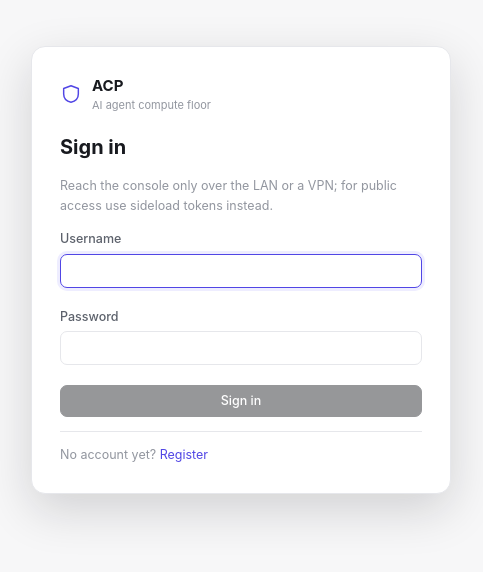
Test case: LoginPage › shows the server error when sign-in fails
Type "alice" into the field labelled "Username". click: (241, 271)
box: [60,254,422,288]
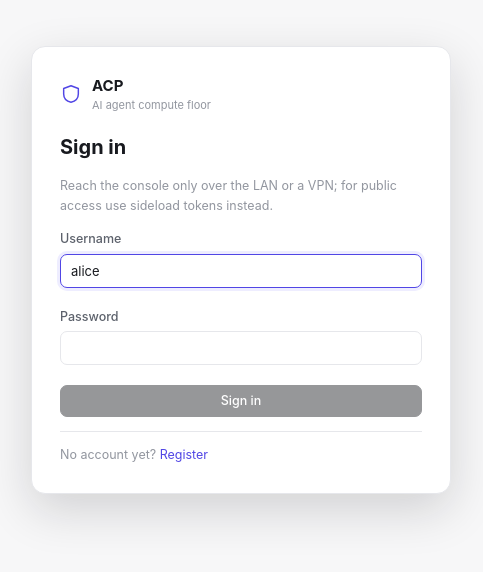
Type "wrong" into the password field labelled "Password". click: (241, 348)
box: [60,331,422,365]
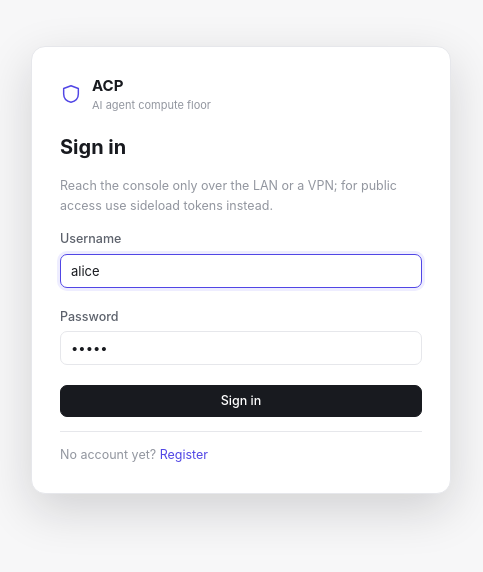
Click the button "Sign in". click: (241, 401)
box: [60,385,422,417]
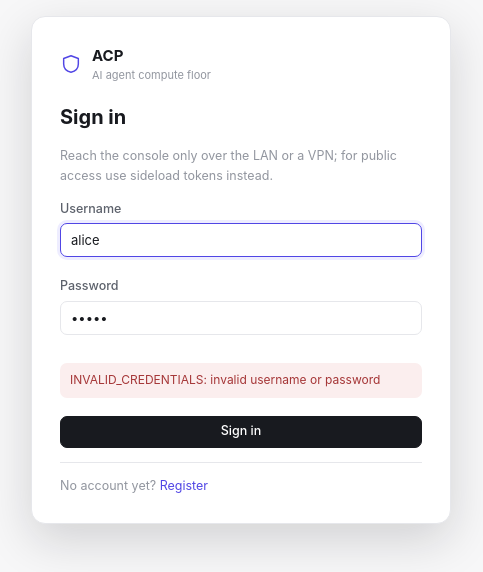
Expected: the text "INVALID_CREDENTIALS: invalid username or password" is shown, [60,363,422,398]
